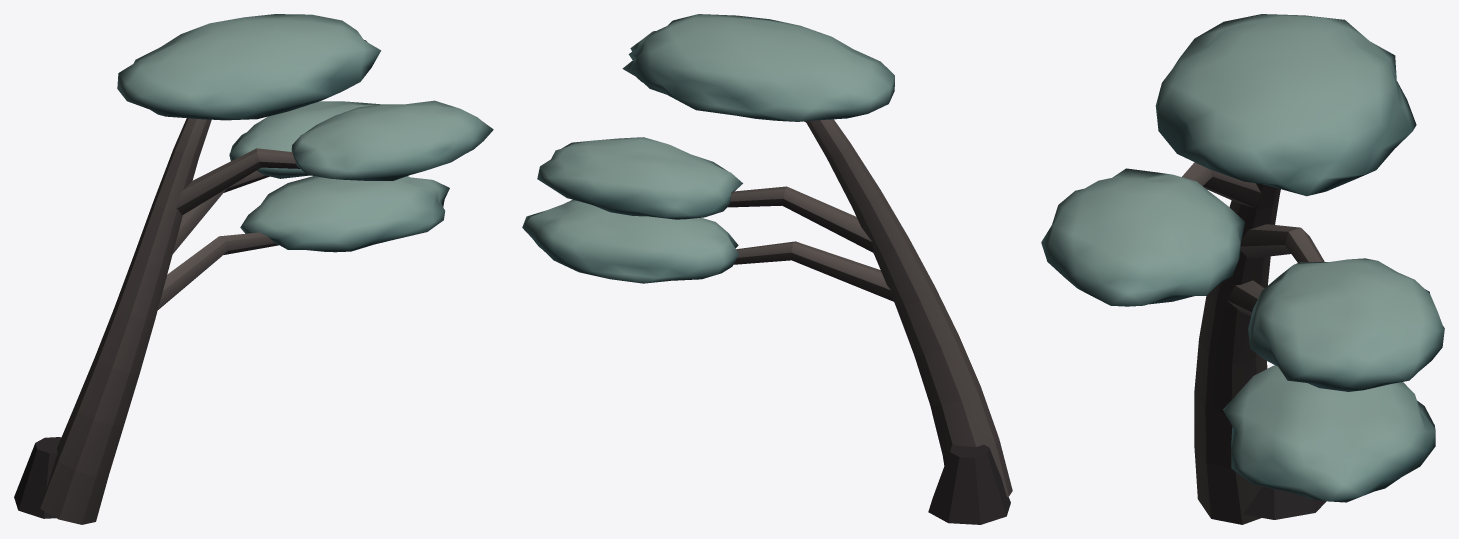
Rendered from pine_small.glb.
The picture shows the model from 3 angles, left to right: view 1: azimuth 30°, elevation 25°; view 2: azimuth 150°, elevation 25°; view 3: azimuth 270°, elevation 25°; orthographic projection. The views are drawn at different scales.
Parts seen in each view (by area): view 1: Pine_Small; view 2: Pine_Small; view 3: Pine_Small.
Part boxes in pixels (left/top/right/bottom): Pine_Small: left=14, top=14, right=493, bottom=524; Pine_Small: left=522, top=14, right=1012, bottom=524; Pine_Small: left=1041, top=14, right=1444, bottom=524.
Size of what is drawn, in the model's own units: 4.17 by 3.7 by 2.34.
